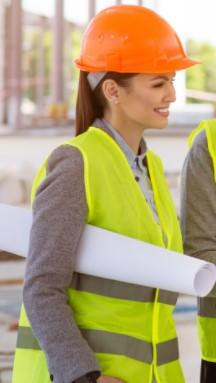hat: (64, 1, 216, 125)
vest: (15, 114, 188, 383), (176, 118, 216, 383)
